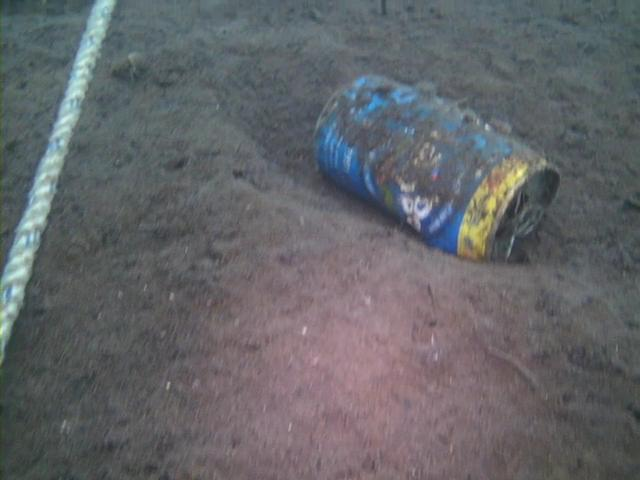rope: (0, 0, 120, 366)
